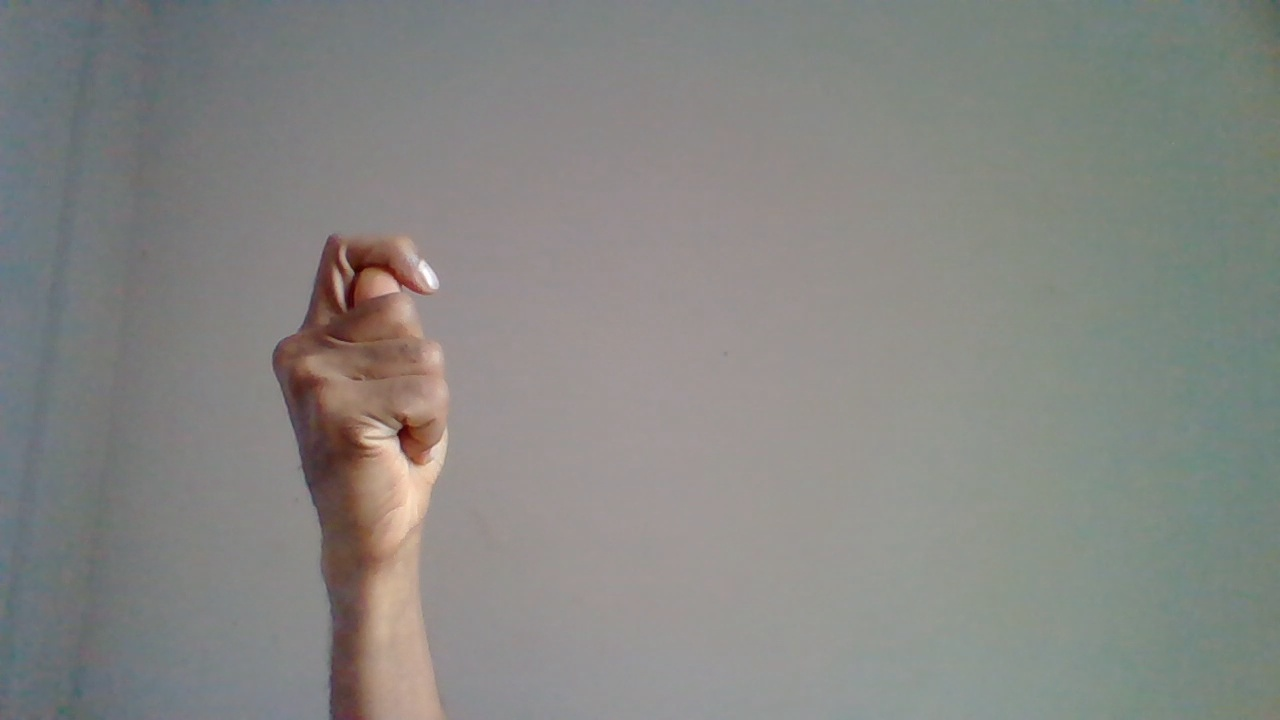che: (268, 231, 455, 693)
